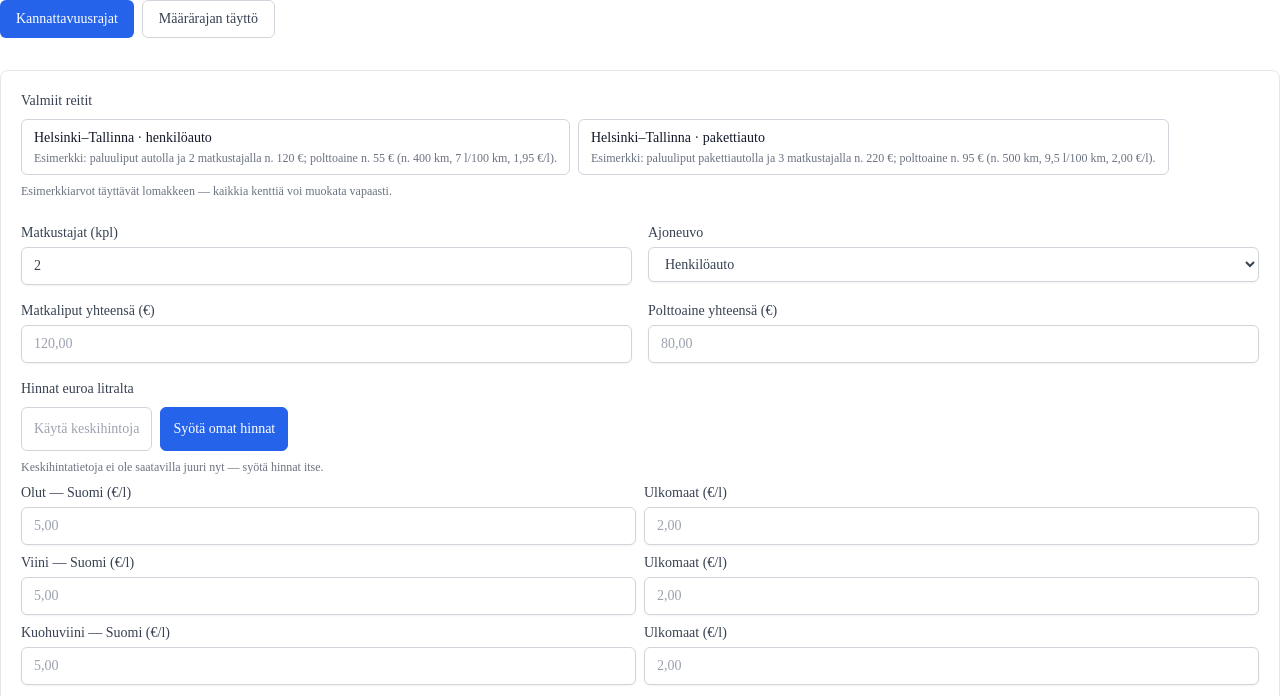
it: TripPage fill mode › shows the break-even form by default and swaps forms with the mode toggle
The image size is (1280, 696).
Click the button with test id "trip-mode-fill" at [208, 19], box [142,0,275,38]
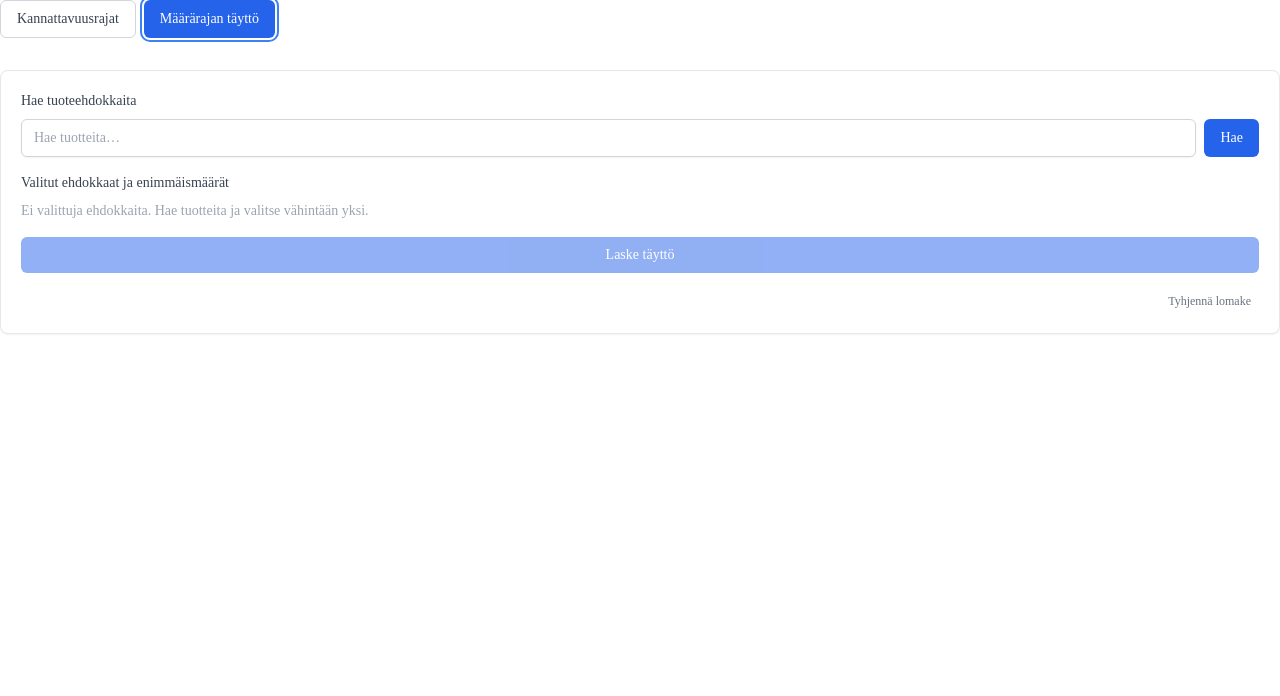
expect the form with test id "trip-fill-form" is shown: met, box [21,91,1259,273]
Click the button with test id "trip-mode-breakeven" at [68, 19], box [0,0,136,38]
(page scrolled)
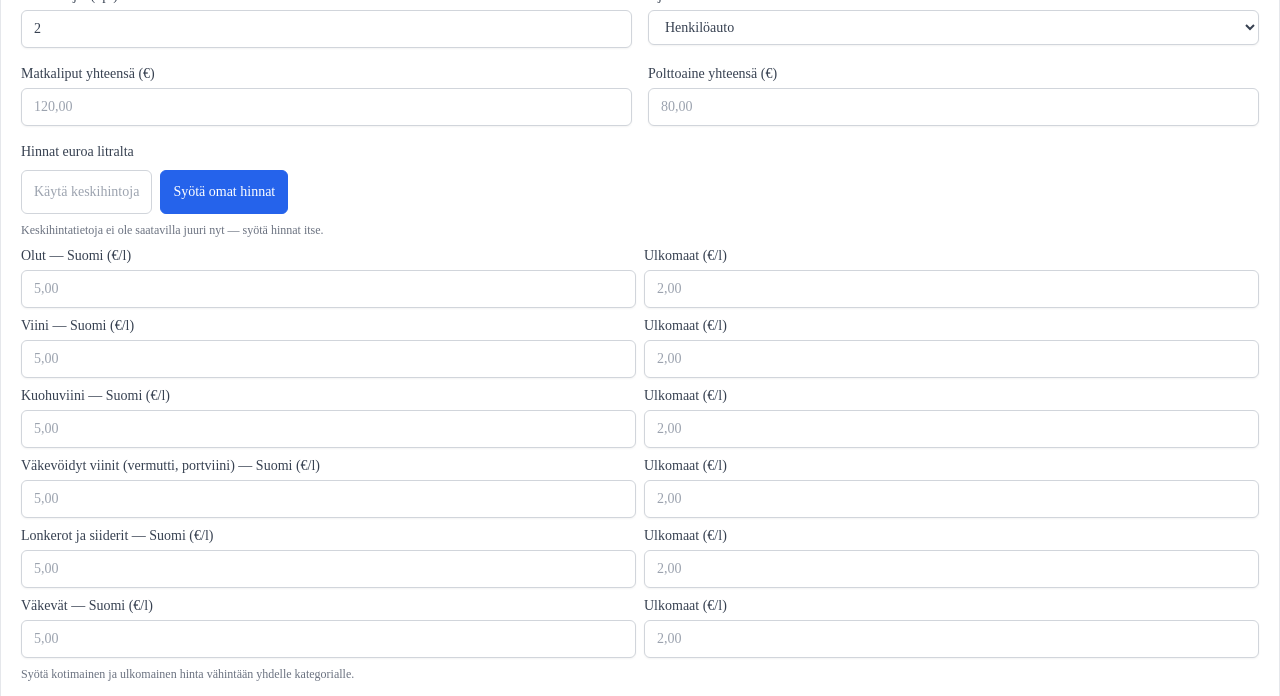
expect the form with test id "trip-fill-form" is gone: met
